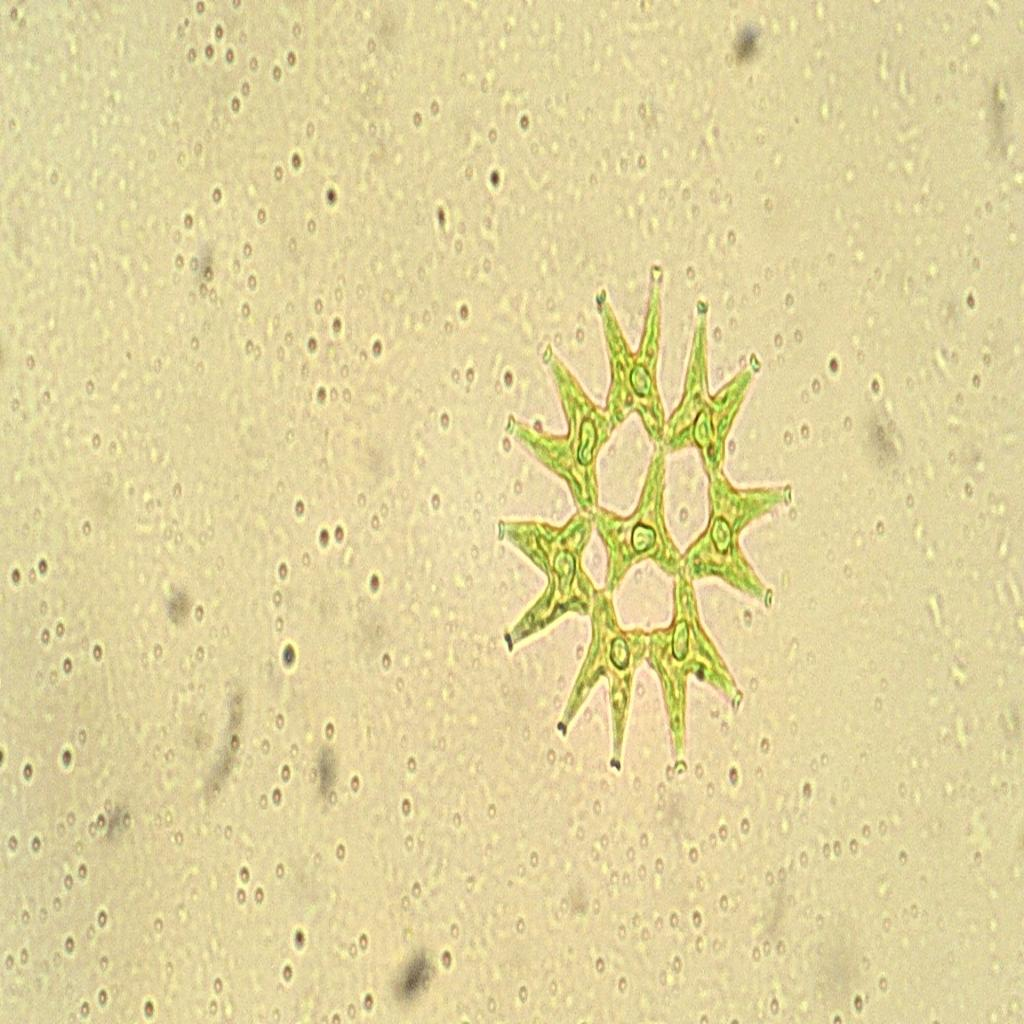Pediastrum_CTH: (482, 251, 802, 792)
